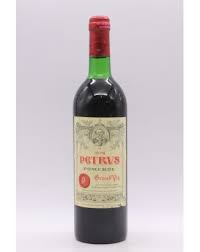bottle: (68, 13, 131, 248)
